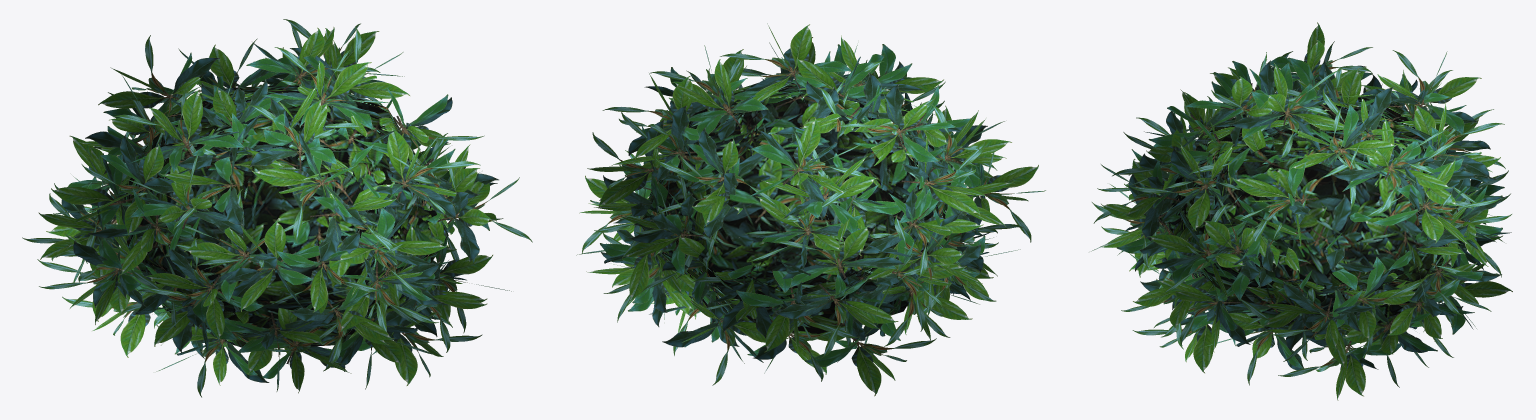
Rendered from Hedge_Round.fbx.
3 views of the same model, side by side, from view 1: azimuth 30°, elevation 25°; view 2: azimuth 150°, elevation 25°; view 3: azimuth 270°, elevation 25° (orthographic). The views are drawn at different scales.
Parts seen in each view (by area): view 1: Hedge_Round; view 2: Hedge_Round; view 3: Hedge_Round.
Part boxes in pixels (x1=…): Hedge_Round: x1=22, y1=19, x2=532, y2=397; Hedge_Round: x1=576, y1=23, x2=1045, y2=396; Hedge_Round: x1=1091, y1=22, x2=1512, y2=400.
Bounding box in the file's own units: 0.7 × 0.48 × 0.6365.
1 material, 1 textured.
